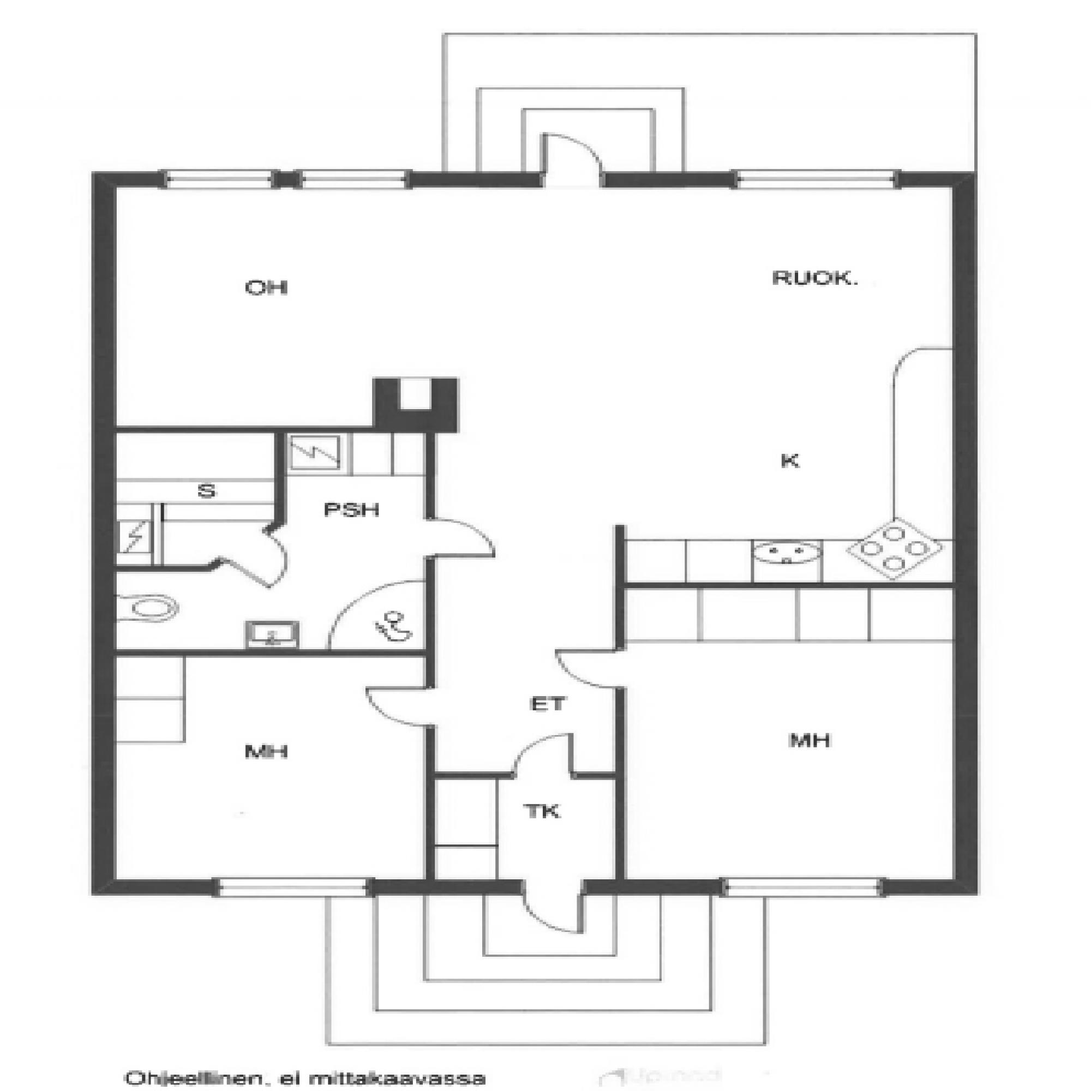wall: (90, 170, 116, 894), (952, 170, 978, 894), (91, 170, 978, 186), (91, 879, 978, 895), (426, 428, 436, 895), (205, 520, 283, 570), (615, 524, 623, 895), (615, 582, 978, 587), (91, 428, 436, 433), (91, 650, 434, 655), (683, 347, 694, 451), (426, 772, 623, 777), (275, 428, 283, 524), (91, 565, 210, 570)
